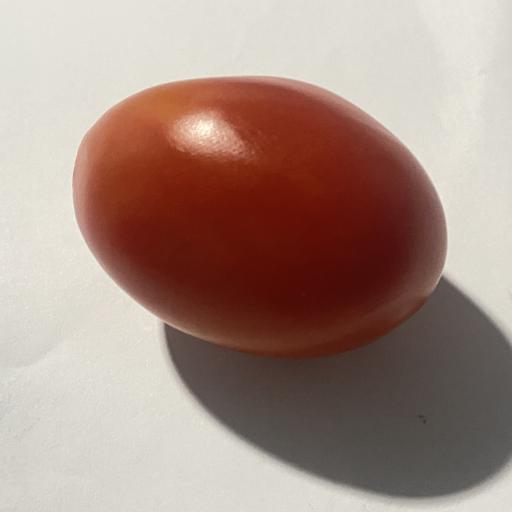ripe: (73, 77, 446, 357)
